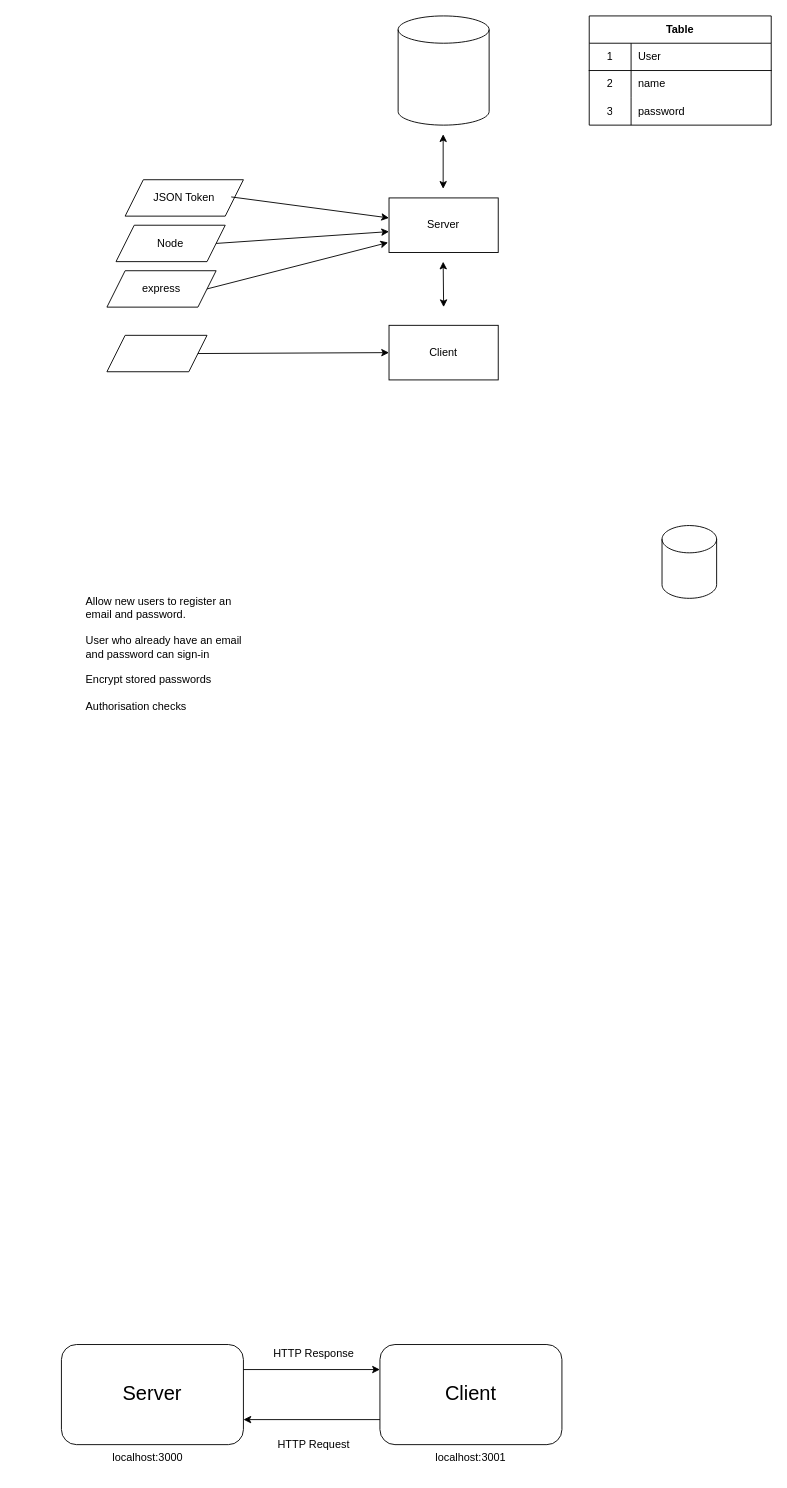
Some shapes in this 787 by 1488 pixel diagram are drawn without their labels. The centre of each missing label's shape, as x and y in pixels:
Mongo: point 443,70
React: point 156,353
